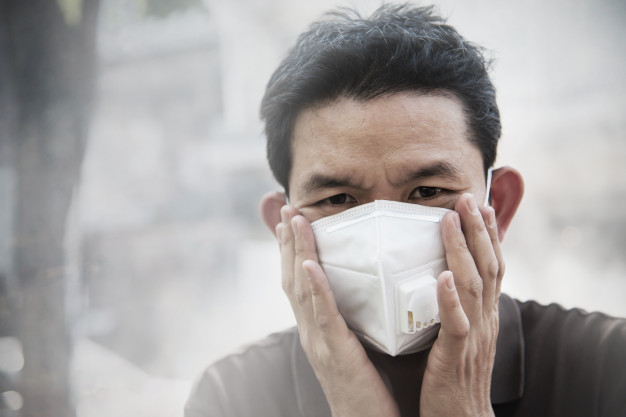with_mask: (277, 76, 504, 352)
